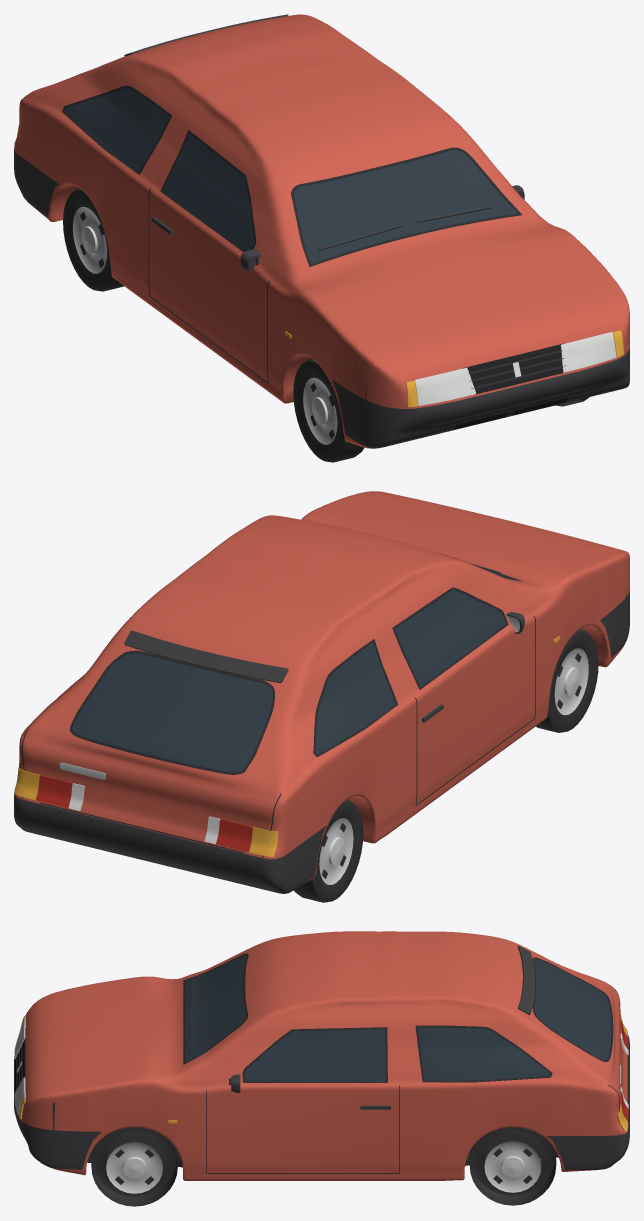
File: vaz2108.glb
3 renders of one model, top to bottom at view 1: azimuth 30°, elevation 25°; view 2: azimuth 150°, elevation 25°; view 3: azimuth 270°, elevation 25°, orthographic. The views are drawn at different scales.
Parts seen in each view (by area): view 1: paint, glass, trim, wheel_fr, wheel_rr, headlights; view 2: paint, glass, trim, wheel_fr, wheel_rr, taillights, rear_blinker_right, reverse_lights, rear_blinker_left; view 3: paint, glass, trim, wheel_fl, wheel_rl, headlights.
Boxes of the visible parts, left/top/right/bottom form: paint: left=14, top=14, right=629, bottom=448; glass: left=64, top=88, right=517, bottom=263; trim: left=24, top=14, right=567, bottom=429; wheel_fr: left=293, top=358, right=364, bottom=462; wheel_rr: left=63, top=188, right=123, bottom=291; headlights: left=414, top=331, right=616, bottom=405; paint: left=14, top=491, right=629, bottom=893; glass: left=72, top=569, right=514, bottom=772; trim: left=21, top=554, right=535, bottom=857; wheel_fr: left=536, top=629, right=598, bottom=732; wheel_rr: left=294, top=799, right=363, bottom=902; taillights: left=36, top=775, right=252, bottom=851; rear_blinker_right: left=248, top=827, right=278, bottom=856; reverse_lights: left=68, top=783, right=220, bottom=844; rear_blinker_left: left=14, top=768, right=40, bottom=800; paint: left=14, top=931, right=629, bottom=1180; glass: left=185, top=955, right=611, bottom=1081; trim: left=15, top=945, right=628, bottom=1173; wheel_fl: left=91, top=1127, right=177, bottom=1206; wheel_rl: left=469, top=1127, right=556, bottom=1205; headlights: left=14, top=1019, right=25, bottom=1115.
Size of the model in its own units: 1.71 by 1.41 by 4.01.
